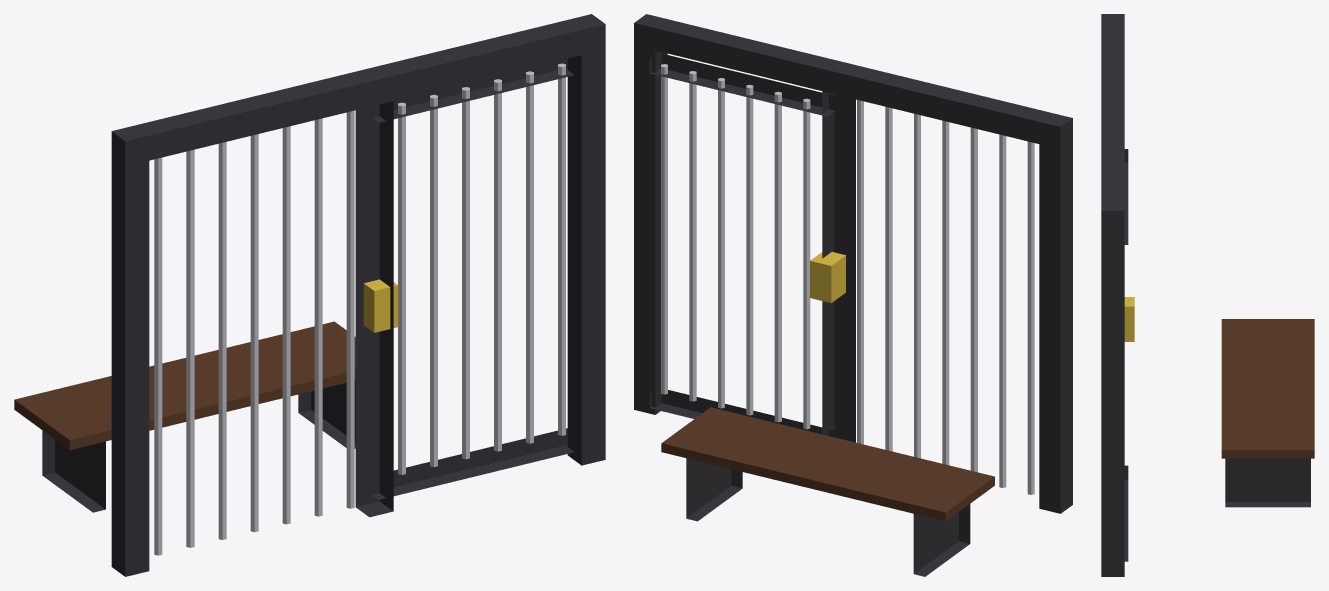
File: interior_police_cell.glb
The picture shows the model from 3 angles, left to right: view 1: azimuth 30°, elevation 25°; view 2: azimuth 150°, elevation 25°; view 3: azimuth 270°, elevation 25°; orthographic projection. The views are drawn at different scales.
Visible parts, largest first — view 1: interior_police_cell; view 2: interior_police_cell; view 3: interior_police_cell.
Part boxes in pixels (x1,y1,x2,y2): interior_police_cell: [14, 14, 605, 576]; interior_police_cell: [634, 14, 1072, 576]; interior_police_cell: [1101, 14, 1314, 576].
Bounding box in the file's own units: 3 × 2.6 × 1.37.
Materials: 1 (1 with a texture image).
